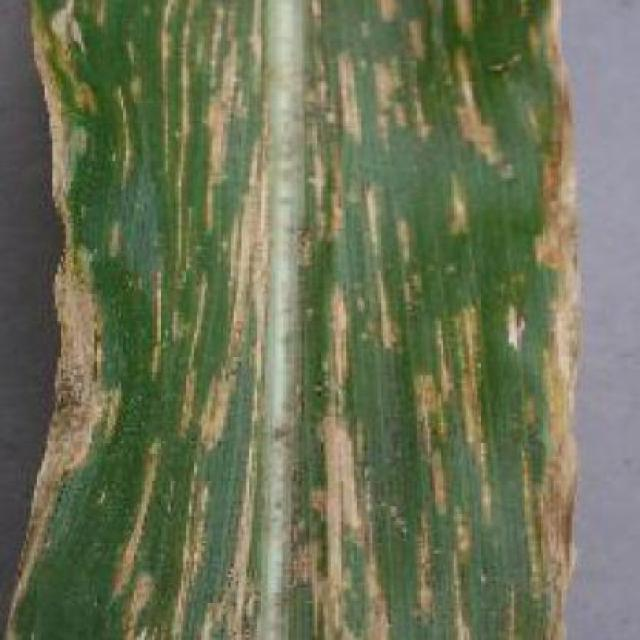Corn_Grey_Leaf_Spot: (38, 11, 580, 640)
